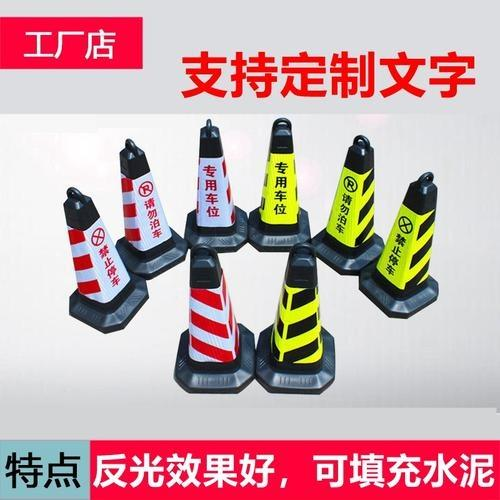cone_barrel: (364, 165, 445, 315), (257, 240, 335, 388), (58, 184, 137, 320), (175, 241, 248, 381), (316, 133, 384, 261), (113, 136, 179, 260), (250, 117, 308, 242), (186, 119, 243, 243)
